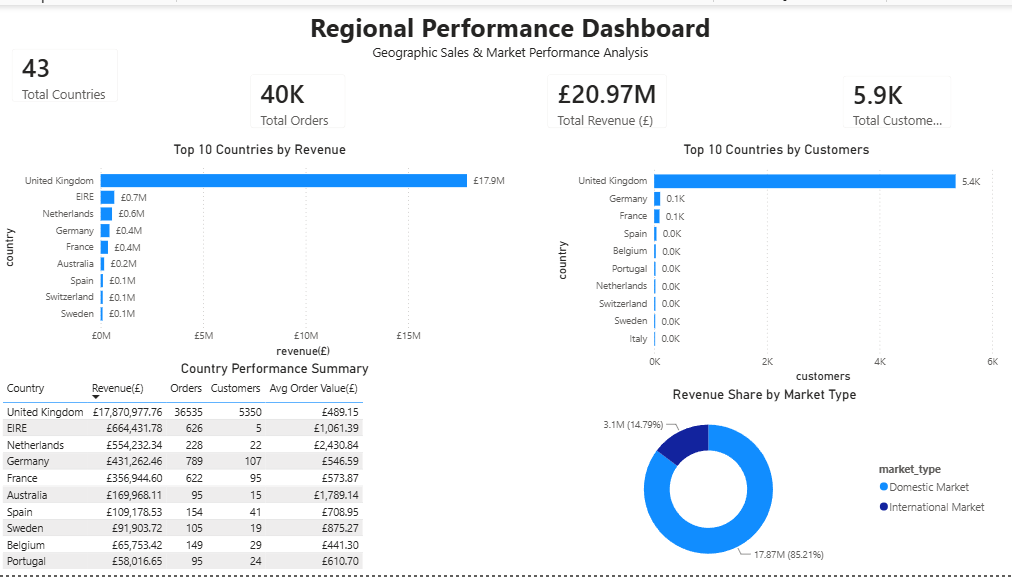

The dashboard page shown, as its layout file describes it:
{"tool":"powerbi","page":{"name":"Page 4","canvas":[1280,720],"ordinal":3},"visuals":[{"type":"textbox","box":[10.6,0,1268.9,80.3],"z":0},{"type":"cardVisual","fields":{"Data":["Sum(dashboard_regional_performance.total_revenue)"]},"box":[390,76.7,191.7,100],"z":1000},{"type":"cardVisual","fields":{"Data":["Sum(dashboard_regional_performance.total_orders)"]},"box":[748.3,76.7,175,96.7],"z":2000},{"type":"cardVisual","fields":{"Data":["Sum(dashboard_regional_performance.identified_customers)"]},"box":[1046.7,73.3,175,100],"z":3000},{"type":"clusteredBarChart","title":"Top 10 Countries by Revenue","fields":{"Category":["dashboard_regional_performance.country"],"Y":["Sum(dashboard_regional_performance.total_revenue)"]},"box":[0,180,656.7,265],"z":4000},{"type":"clusteredBarChart","title":"Top 10 Countries by Customers","fields":{"Category":["dashboard_regional_performance.country"],"Y":["Sum(dashboard_regional_performance.identified_customers)"]},"box":[670,180,581.7,245],"z":5000},{"type":"tableEx","title":"Country Performance Summary","fields":{"Values":["dashboard_regional_performance.country","Sum(dashboard_regional_performance.total_revenue)","Sum(dashboard_regional_performance.total_orders)","Sum(dashboard_regional_performance.identified_customers)","Sum(dashboard_regional_performance.average_order_value)"]},"box":[103.3,445,571.7,275],"z":6000},{"type":"cardVisual","fields":{"Data":["Count(dashboard_regional_performance.country)"]},"box":[10,76.7,175,103.3],"z":7000},{"type":"donutChart","title":"Revenue Share by Market Type","fields":{"Category":["dashboard_regional_performance.market_type"],"Y":["Sum(dashboard_regional_performance.total_revenue)"]},"box":[670,445,581.7,275],"z":8000}]}

Visuals, with their boxes in screenshot pixels (x1, y1, x2, y2), scaled from the page's 1280x720 canvas onto the 1012x577 screenshot:
textbox: bbox=[8, 0, 1011, 64]
cardVisual - Sum(dashboard_regional_performance.total_revenue): bbox=[308, 61, 460, 142]
cardVisual - Sum(dashboard_regional_performance.total_orders): bbox=[592, 61, 730, 139]
cardVisual - Sum(dashboard_regional_performance.identified_customers): bbox=[828, 59, 966, 139]
"Top 10 Countries by Revenue" clusteredBarChart: bbox=[0, 144, 519, 357]
"Top 10 Countries by Customers" clusteredBarChart: bbox=[530, 144, 990, 341]
"Country Performance Summary" tableEx: bbox=[82, 357, 534, 576]
cardVisual - Count(dashboard_regional_performance.country): bbox=[8, 61, 146, 144]
"Revenue Share by Market Type" donutChart: bbox=[530, 357, 990, 576]
